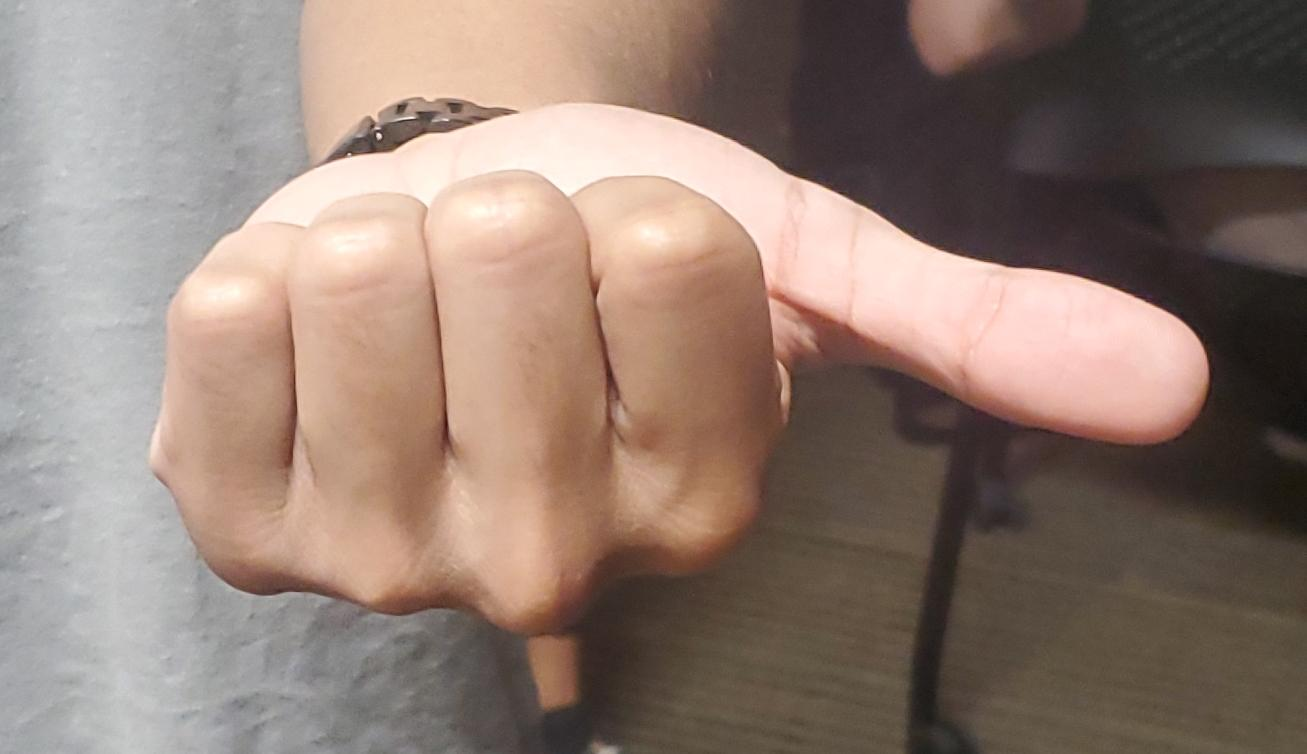left: (1, 0, 1307, 754)
